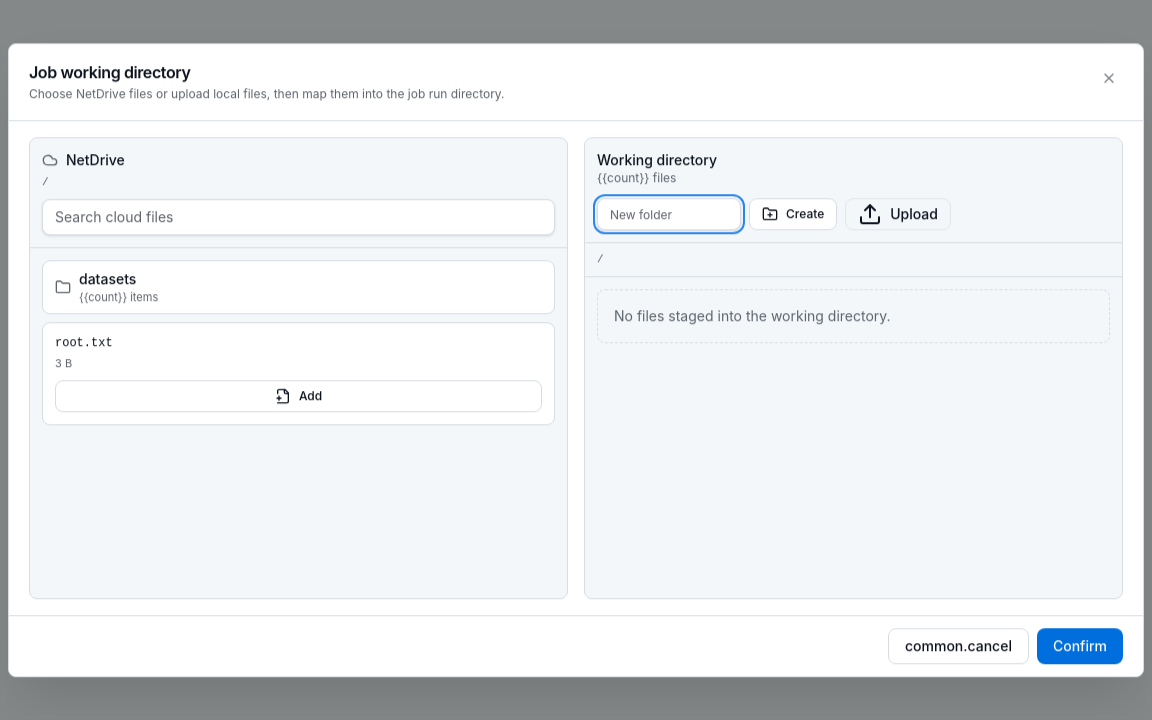
Scenario: CommandWorkdirDialog › browses NetDrive files by folder hierarchy
Expected: the button with test id "command-workdir-add-cloud-root" is shown, [55,380,542,412]
Click the button with test id "command-workdir-cloud-dir-datasets": {"x": 108, "y": 278} [42,260,555,314]
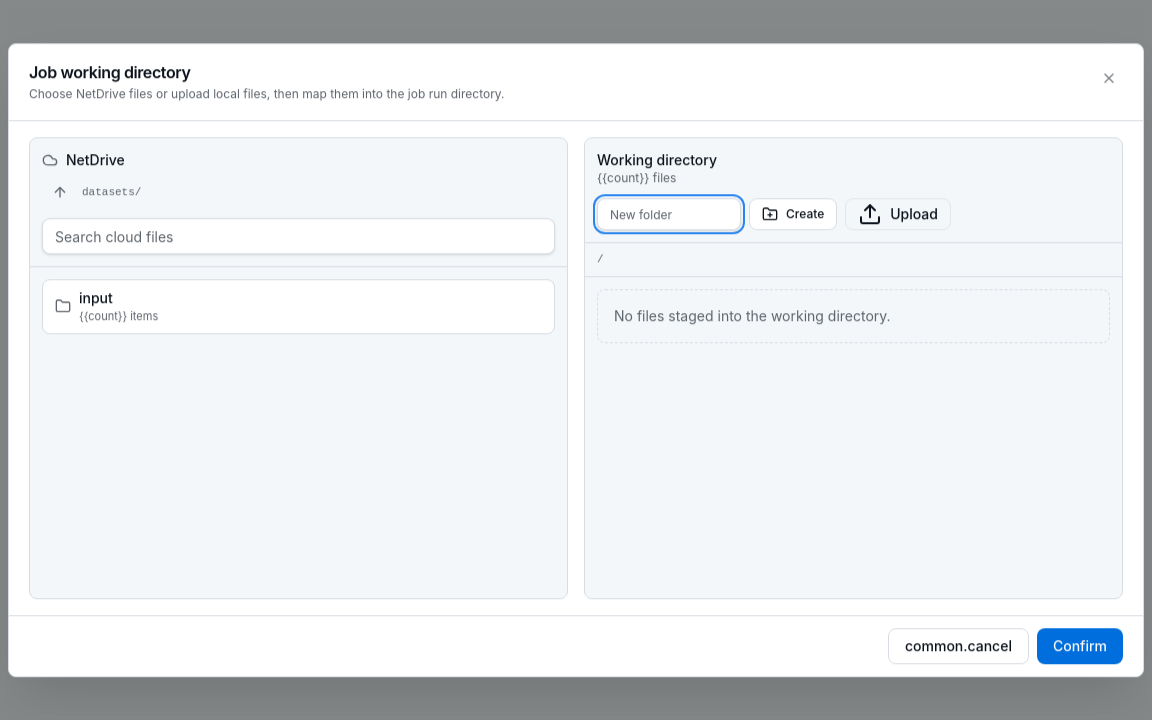
Result: the button with test id "command-workdir-cloud-dir-datasets-input" is shown
Result: the button with test id "command-workdir-add-cloud-root" is gone
Click the button with test id "command-workdir-cloud-dir-datasets-input": {"x": 96, "y": 298} [42,279,555,334]
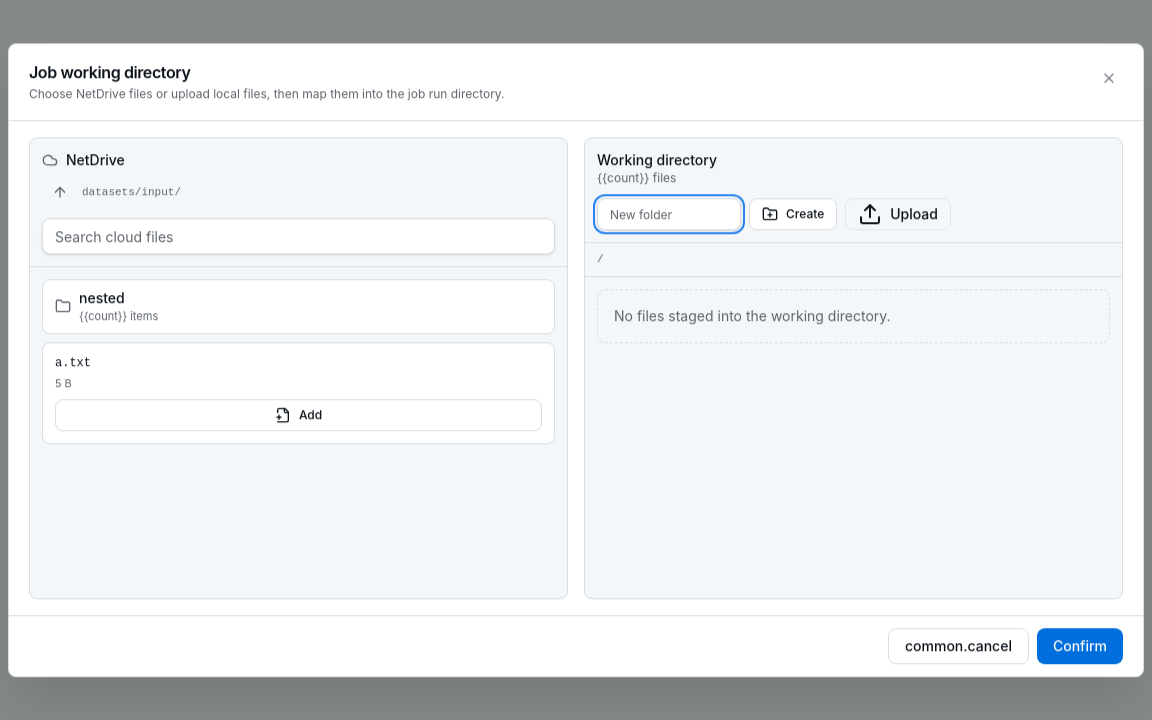
Result: the button with test id "command-workdir-add-cloud-a" is shown at [55,399,542,431]
Result: the button with test id "command-workdir-cloud-dir-datasets-input-nested" is shown at [42,279,555,334]
